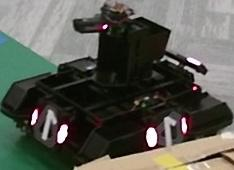armor_1: (145, 117, 187, 147), (31, 109, 68, 143)
